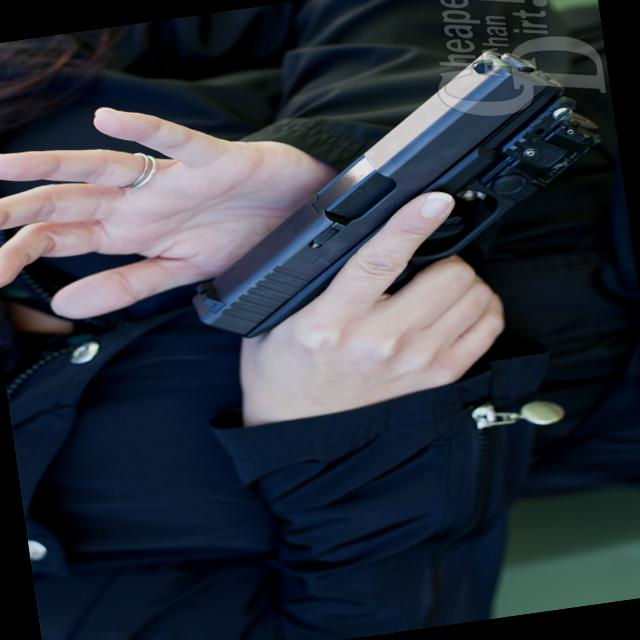handgun: (158, 36, 628, 376)
